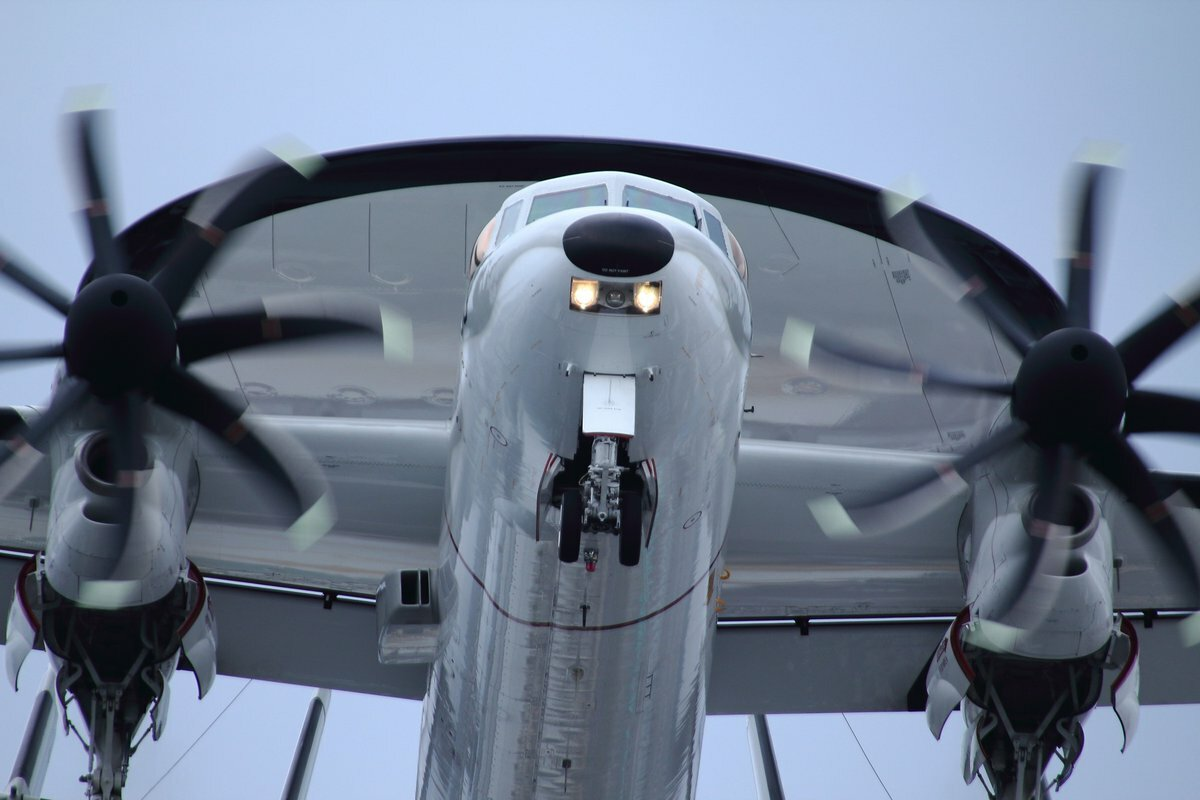E2: (1, 82, 1200, 800)
